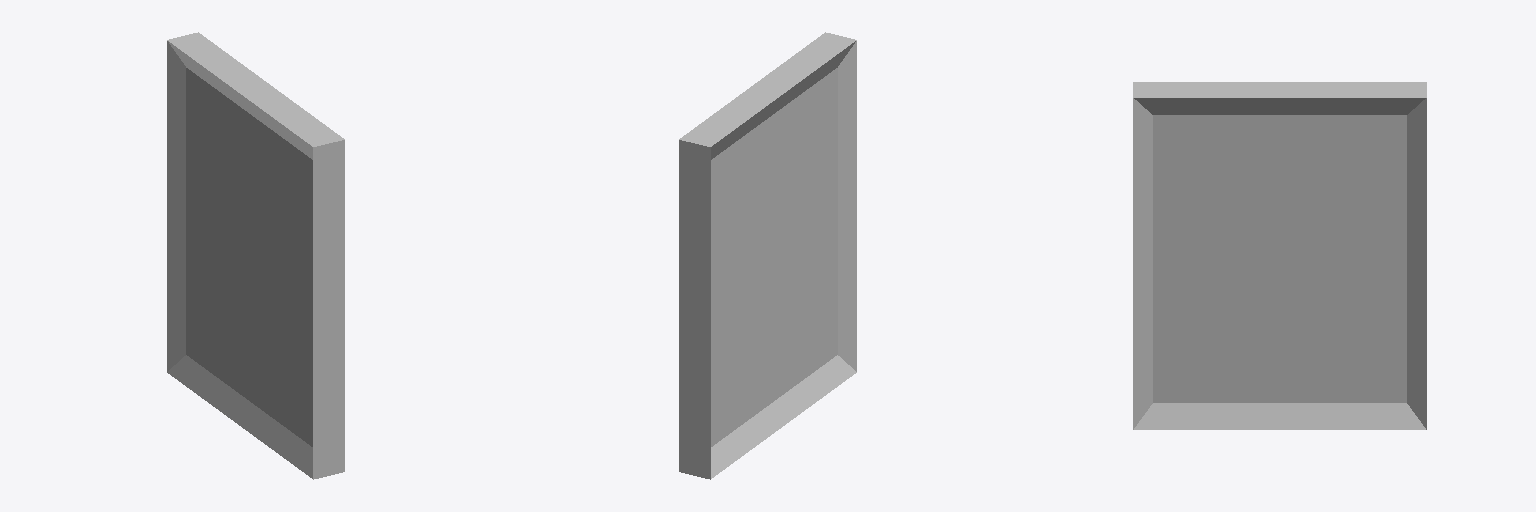
Rendered from warp.obj.
The picture shows the model from 3 angles: view 1: azimuth 30°, elevation 25°; view 2: azimuth 150°, elevation 25°; view 3: azimuth 270°, elevation 25°; orthographic projection.
Visible parts, largest first — view 1: warp_立方体; view 2: warp_立方体; view 3: warp_立方体.
Part boxes in pixels (x1,y1,x2,y2): warp_立方体: (167,32,344,479); warp_立方体: (679,32,856,479); warp_立方体: (1133,82,1426,429).
Bounding box in the file's own units: 0.2 × 2 × 1.6.